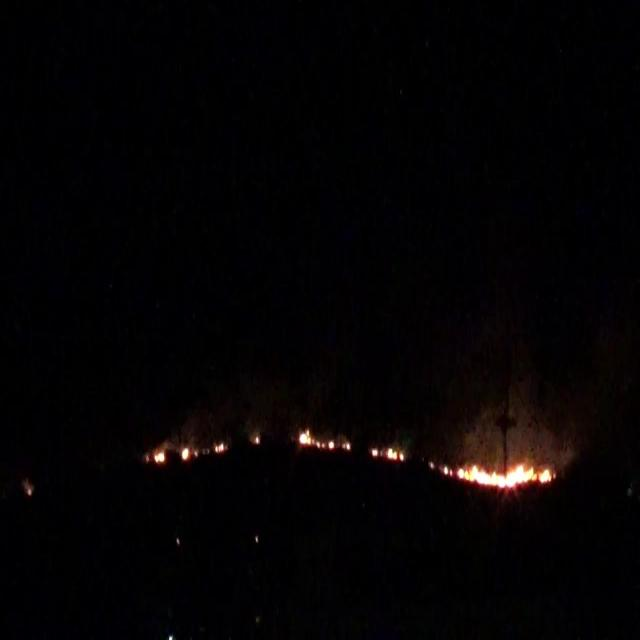Fire: (444, 468, 554, 493), (299, 428, 351, 454), (371, 447, 405, 461), (181, 446, 197, 460), (152, 451, 165, 464), (212, 443, 224, 453), (252, 432, 260, 445)
